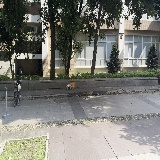fire: (69, 82, 76, 88)
